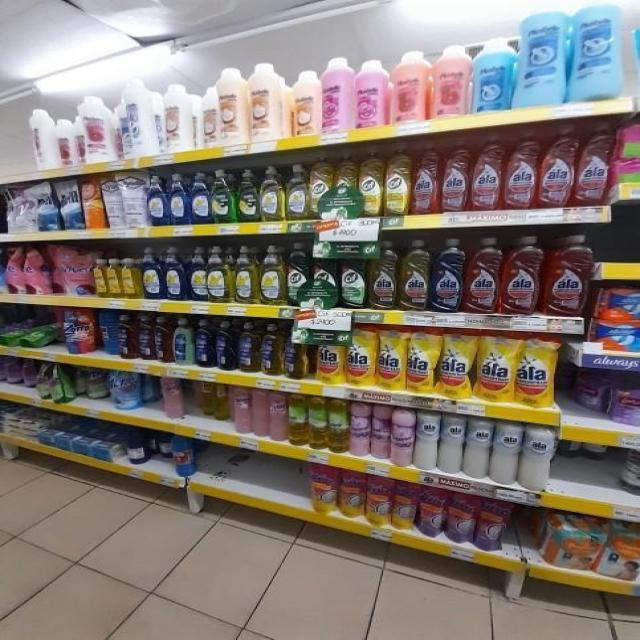ala_conc_amarillo: (399, 239, 430, 312), (368, 239, 398, 311)
ala_conc_azul: (431, 237, 463, 313)
ala_conc_rojo: (545, 234, 591, 317), (502, 235, 542, 316), (538, 124, 574, 209), (576, 121, 611, 207), (464, 236, 500, 315), (504, 138, 537, 210), (471, 138, 503, 212), (440, 140, 470, 213), (412, 143, 440, 215)
ala_crem_blanco: (522, 426, 555, 490), (492, 421, 520, 484), (466, 417, 491, 479), (440, 414, 464, 474), (414, 411, 438, 470)
ala_sachet_amarillo: (517, 334, 559, 408), (476, 332, 515, 403), (438, 329, 474, 400), (407, 327, 437, 395), (346, 325, 375, 388), (377, 327, 405, 391), (316, 325, 344, 385)
cif_conc_bot_amarilla: (384, 143, 411, 217), (359, 147, 383, 218), (334, 150, 358, 220), (309, 154, 332, 220)
cif_conc_botella_verde: (339, 241, 367, 309), (311, 241, 338, 309), (286, 242, 310, 307)
magistral_con_amarillo: (260, 245, 285, 306), (234, 245, 258, 305), (208, 245, 232, 304), (260, 166, 285, 222), (286, 164, 308, 221)
magistral_con_azul: (164, 246, 186, 301), (168, 172, 190, 226), (187, 246, 207, 302), (142, 247, 163, 300), (190, 172, 210, 224), (148, 174, 168, 226)
zorro: (260, 323, 283, 376), (237, 322, 260, 373)
